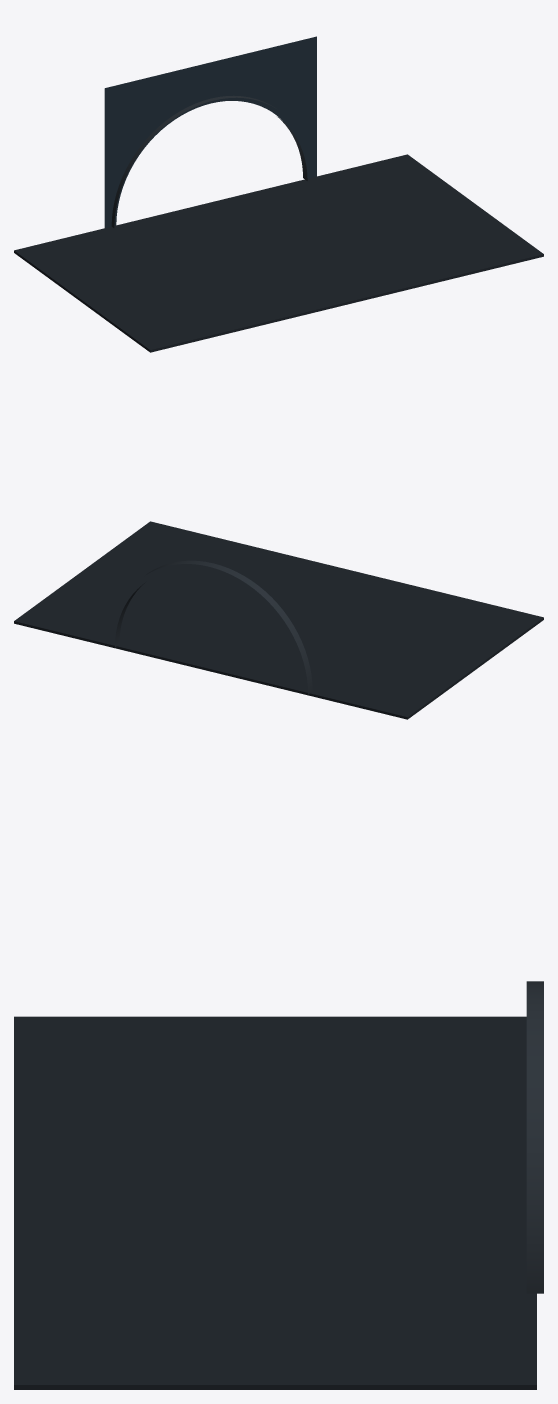
File: gallery.glb
The picture shows the model from 3 angles, top to bottom: view 1: azimuth 30°, elevation 25°; view 2: azimuth 150°, elevation 25°; view 3: azimuth 270°, elevation 25°; orthographic projection. The views are drawn at different scales.
Parts seen in each view (by area): view 1: gallery; view 2: gallery; view 3: gallery.
Part boxes in pixels (x1,y1,x2,y2): gallery: (14, 36, 543, 352); gallery: (14, 521, 543, 719); gallery: (14, 981, 543, 1389).
Size of the model in its own units: 10 by 3.46 by 6.08.
